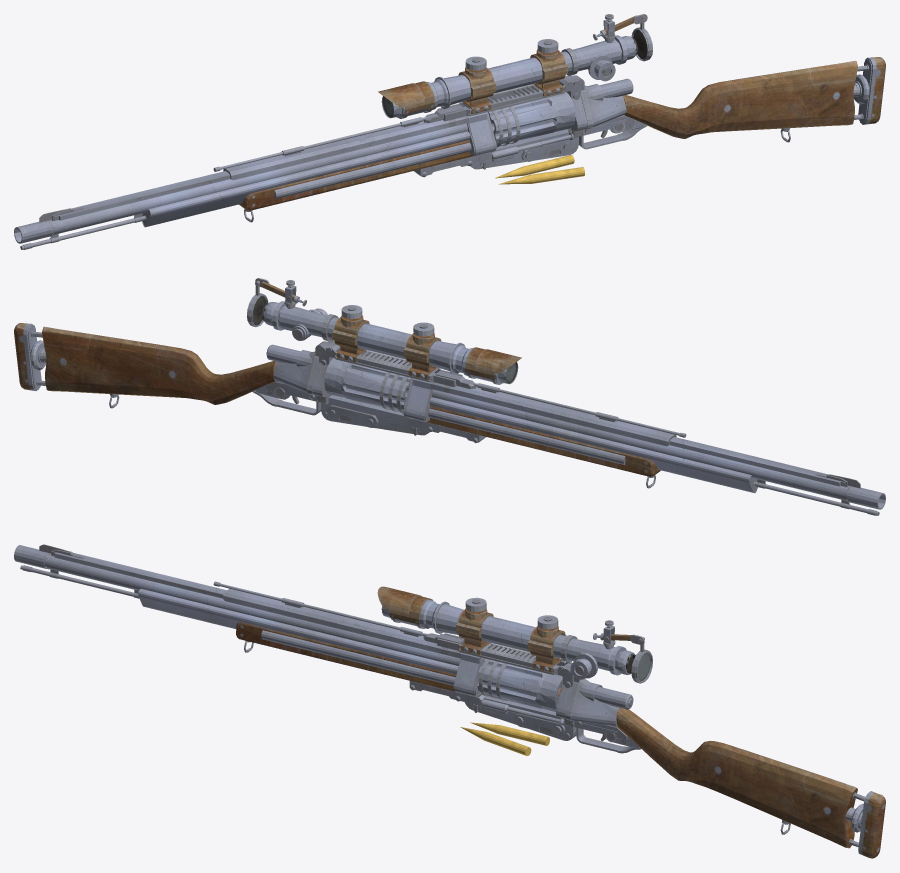
The picture shows the model from 3 angles, top to bottom: view 1: azimuth 30°, elevation 25°; view 2: azimuth 150°, elevation 25°; view 3: azimuth 330°, elevation 25°; orthographic projection.
Visible parts, largest first — view 1: drzac_low, barrelShot_low, scopebody_low, triDown_low, upper1_low, klip_low, wood_low, woodTube_low, topSquare_low, scopeSlider_low, back1_low, scopeHolder_low_001_MaterijalTes (+18 smaller); view 2: drzac_low, barrelShot_low, scopebody_low, triDown_low, upper1_low, klip_low, wood_low, woodTube_low, topSquare_low, scopeSlider_low, back1_low, bottomDetail1_low_MaterijalTest_ (+14 smaller); view 3: drzac_low, barrelShot_low, scopebody_low, triDown_low, upper1_low, klip_low, wood_low, back1_low, woodTube_low, topSquare_low, scopeSlider_low, drzac3_low (+8 smaller).
Boxes of the visible parts, bbox=[...] form: drzac_low: bbox=[578, 60, 857, 149]; barrelShot_low: bbox=[49, 123, 467, 243]; scopebody_low: bbox=[381, 35, 637, 118]; triDown_low: bbox=[142, 131, 470, 227]; upper1_low: bbox=[223, 116, 468, 180]; klip_low: bbox=[488, 92, 575, 145]; wood_low: bbox=[239, 140, 473, 210]; woodTube_low: bbox=[274, 142, 471, 199]; topSquare_low: bbox=[54, 171, 230, 220]; scopeSlider_low: bbox=[437, 75, 587, 131]; back1_low: bbox=[584, 78, 633, 127]; scopeHolder_low_001_MaterijalTes: bbox=[530, 39, 567, 96]; drzac_low: bbox=[42, 326, 321, 415]; barrelShot_low: bbox=[432, 389, 850, 509]; scopebody_low: bbox=[262, 301, 518, 384]; triDown_low: bbox=[429, 397, 757, 493]; upper1_low: bbox=[431, 382, 676, 446]; klip_low: bbox=[324, 358, 411, 411]; wood_low: bbox=[426, 406, 660, 476]; woodTube_low: bbox=[428, 408, 625, 464]; topSquare_low: bbox=[669, 437, 845, 486]; scopeSlider_low: bbox=[312, 341, 462, 397]; back1_low: bbox=[266, 344, 315, 393]; bottomDetail1_low_MaterijalTest_: bbox=[321, 395, 429, 435]; drzac_low: bbox=[576, 708, 857, 848]; barrelShot_low: bbox=[44, 549, 460, 665]; scopebody_low: bbox=[381, 600, 635, 675]; triDown_low: bbox=[138, 588, 458, 674]; upper1_low: bbox=[223, 588, 460, 658]; klip_low: bbox=[477, 658, 562, 711]; wood_low: bbox=[236, 622, 481, 696]; back1_low: bbox=[571, 678, 633, 726]; woodTube_low: bbox=[261, 630, 455, 685]; topSquare_low: bbox=[51, 551, 226, 598]; scopeSlider_low: bbox=[437, 633, 573, 718]; drzac3_low: bbox=[858, 791, 885, 858].
Bounding box in the file's own units: 913 × 74.97 × 173.
